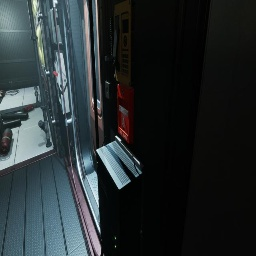EmergencyPhone ,: (110, 0, 135, 87)
FireAlarm ,: (117, 82, 134, 144)
FireExtinguisher ]: (22, 104, 37, 113)
FirstAidBox ,: (0, 90, 5, 98)
NitrogenTank ,: (0, 128, 13, 156)
SafetySwitchPanel ,: (53, 50, 70, 114)
